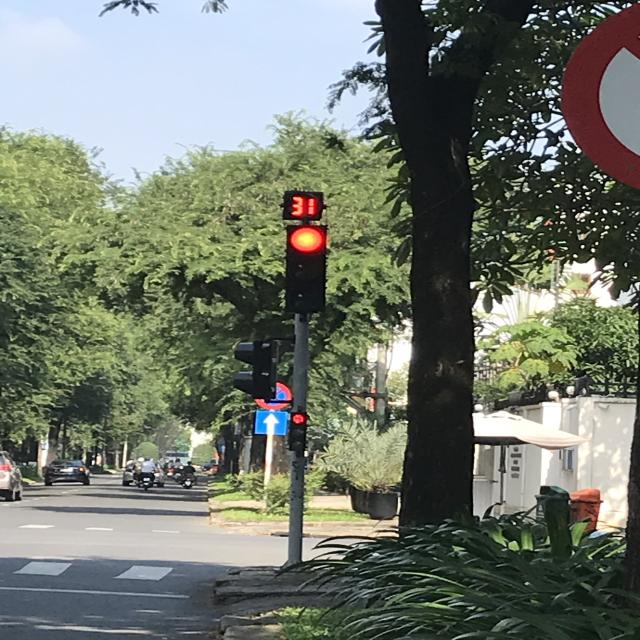Red: (282, 219, 331, 318), (288, 409, 311, 458)
